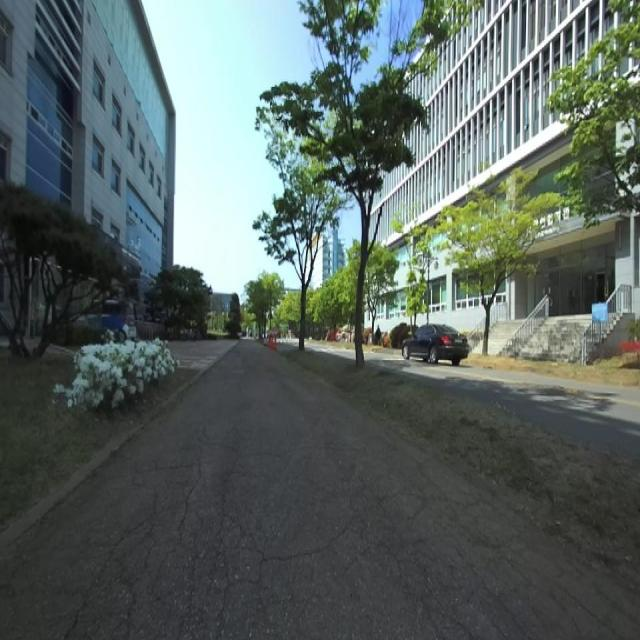sidewalk: (0, 342, 640, 638)
